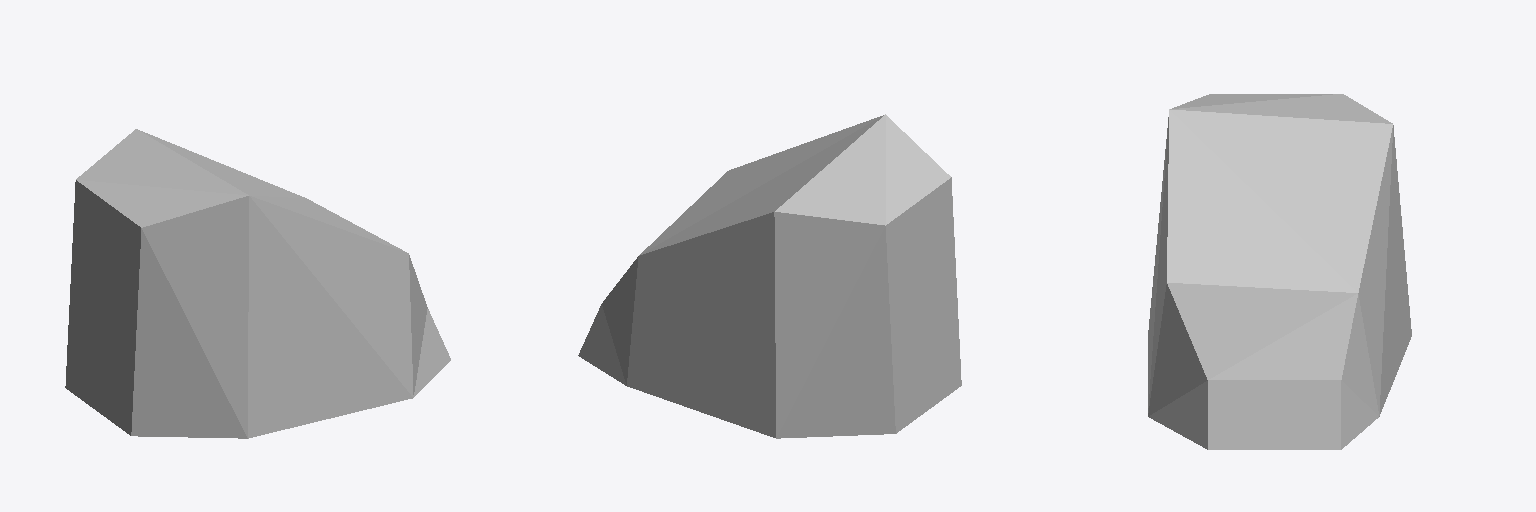
The model's file is valun_004.obj.
3 renders of one model, left to right at view 1: azimuth 30°, elevation 25°; view 2: azimuth 150°, elevation 25°; view 3: azimuth 270°, elevation 25°, orthographic.
Parts seen in each view (by area): view 1: Валун.004; view 2: Валун.004; view 3: Валун.004.
Part boxes in pixels (bbox=[...]): Валун.004: bbox=[65, 129, 450, 438]; Валун.004: bbox=[578, 114, 961, 438]; Валун.004: bbox=[1148, 94, 1411, 449].
Bounding box in the file's own units: 1.92 × 1.34 × 1.38.